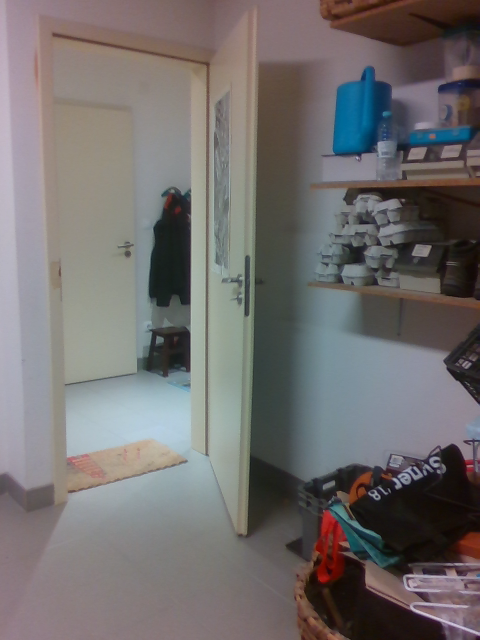open: (42, 3, 259, 532)
